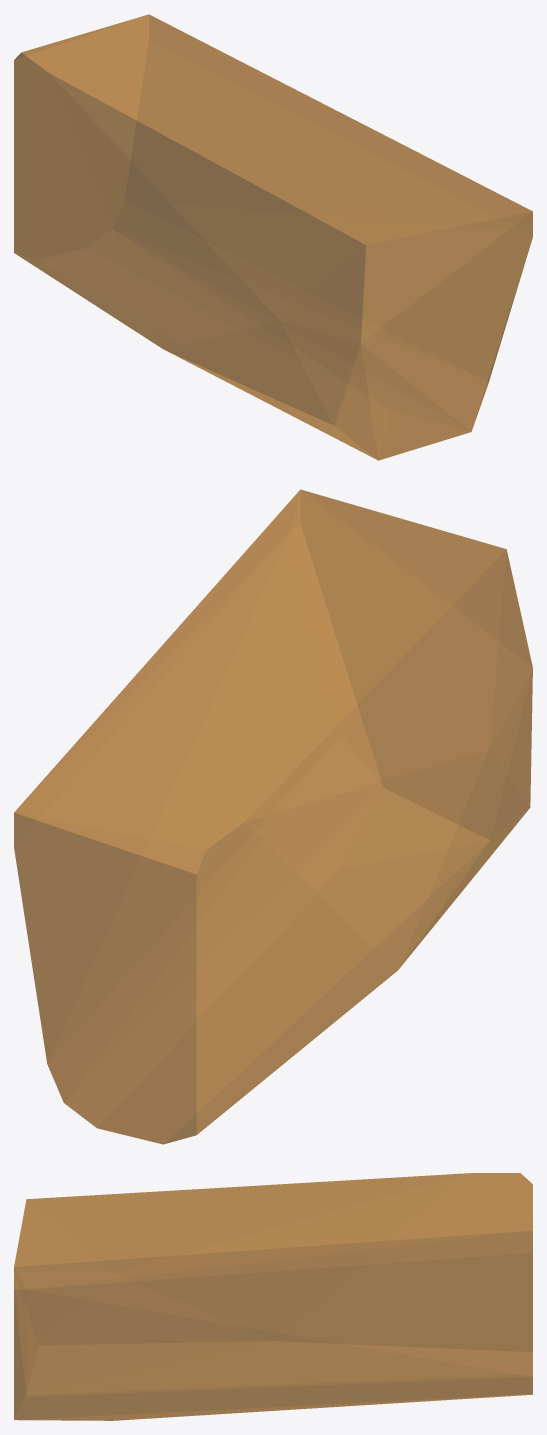
3 renders of one model, top to bottom at view 1: azimuth 30°, elevation 25°; view 2: azimuth 150°, elevation 25°; view 3: azimuth 270°, elevation 25°, orthographic. The views are drawn at different scales.
Visible parts, largest first — view 1: Shape_IndexedFaceSet.011_Shape_IndexedFaceSet.17695; view 2: Shape_IndexedFaceSet.011_Shape_IndexedFaceSet.17695; view 3: Shape_IndexedFaceSet.011_Shape_IndexedFaceSet.17695.
Part boxes in pixels (bbox=[...]): Shape_IndexedFaceSet.011_Shape_IndexedFaceSet.17695: bbox=[14, 14, 532, 460]; Shape_IndexedFaceSet.011_Shape_IndexedFaceSet.17695: bbox=[14, 489, 532, 1144]; Shape_IndexedFaceSet.011_Shape_IndexedFaceSet.17695: bbox=[14, 1173, 532, 1420].
Bounding box in the file's own units: 0.047 × 0.0443 × 0.1096.
